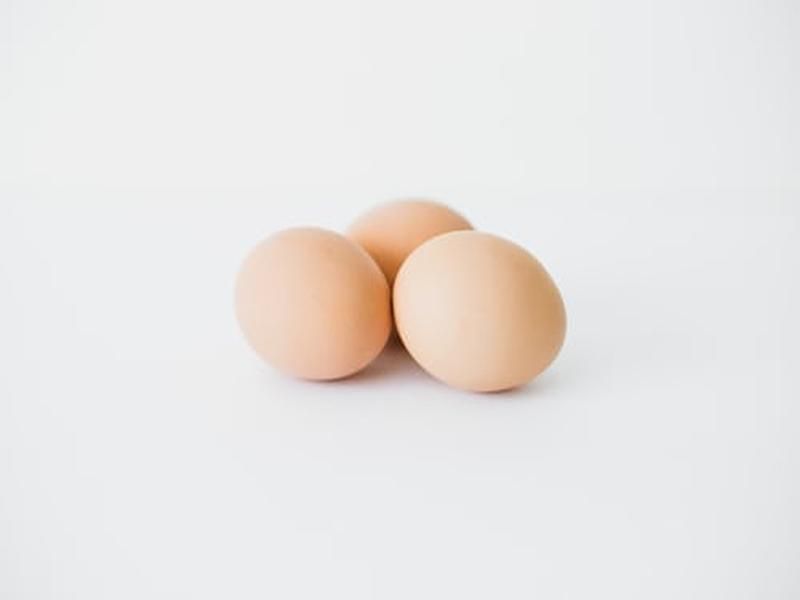egg: (218, 155, 631, 435)
